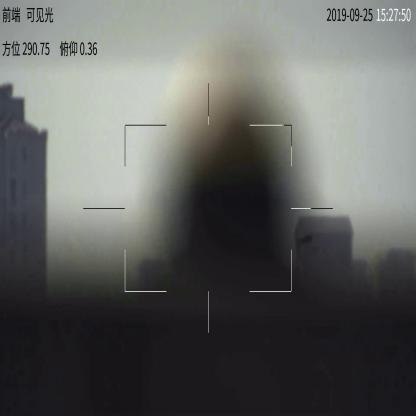uav: (296, 230, 313, 247)
